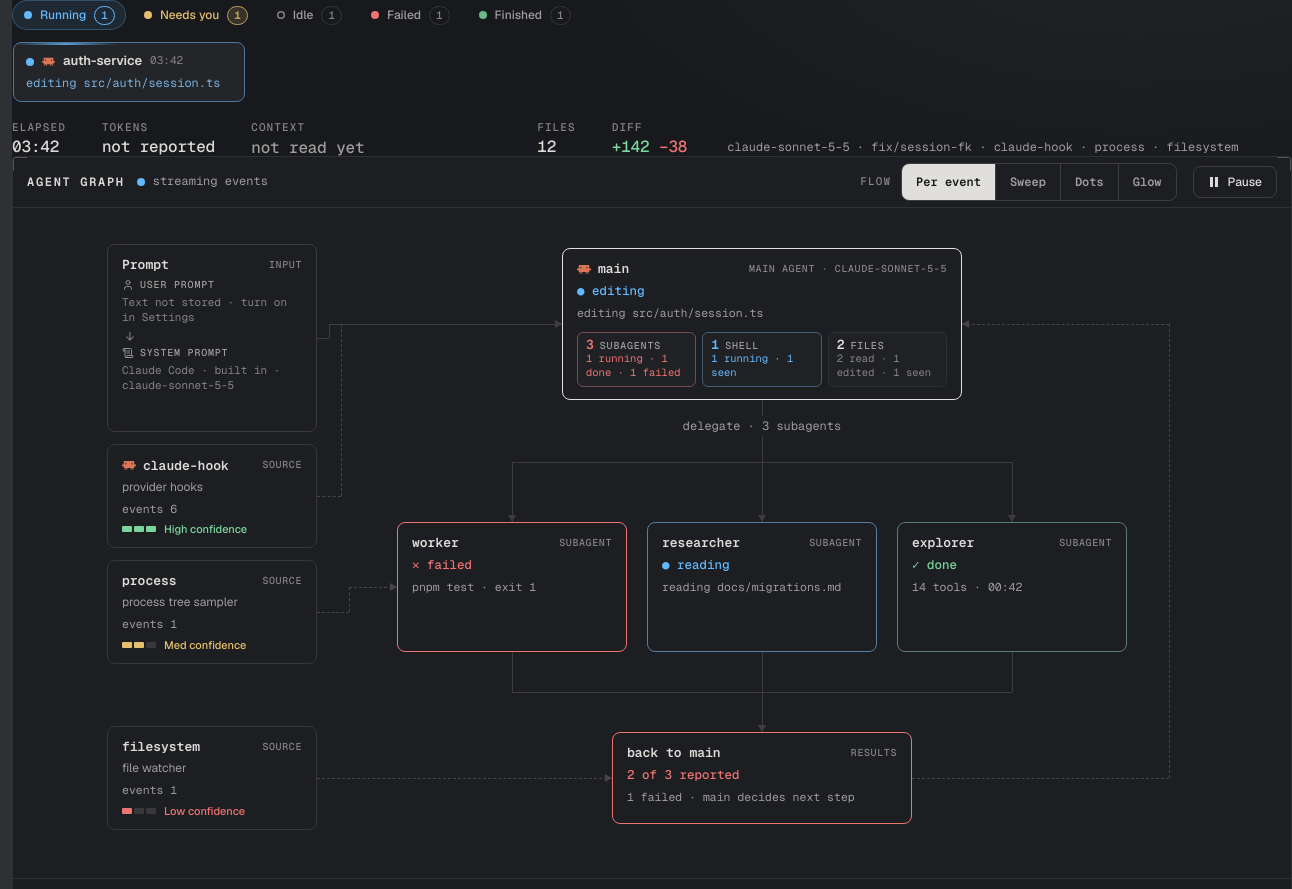
Overview with the mock daemon › shows the session that needs you, with its graph, stats and log, on the Needs you tab
Step 1. Click the tab "Needs you 1" → [195, 15], box [132,0,259,30]
(page scrolled)
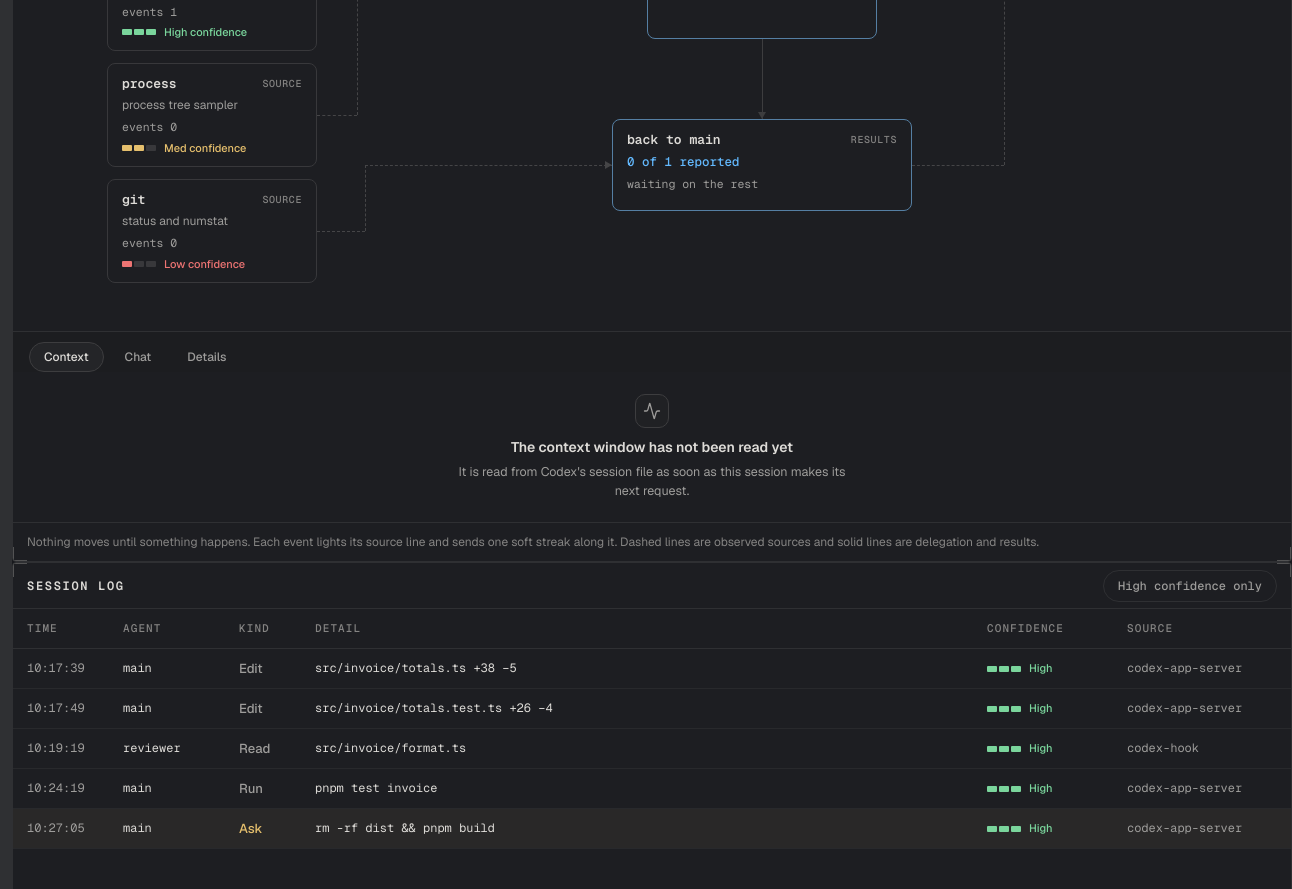
Expected: the text "rm -rf dist && pnpm build" is shown, [315,820,495,836]
